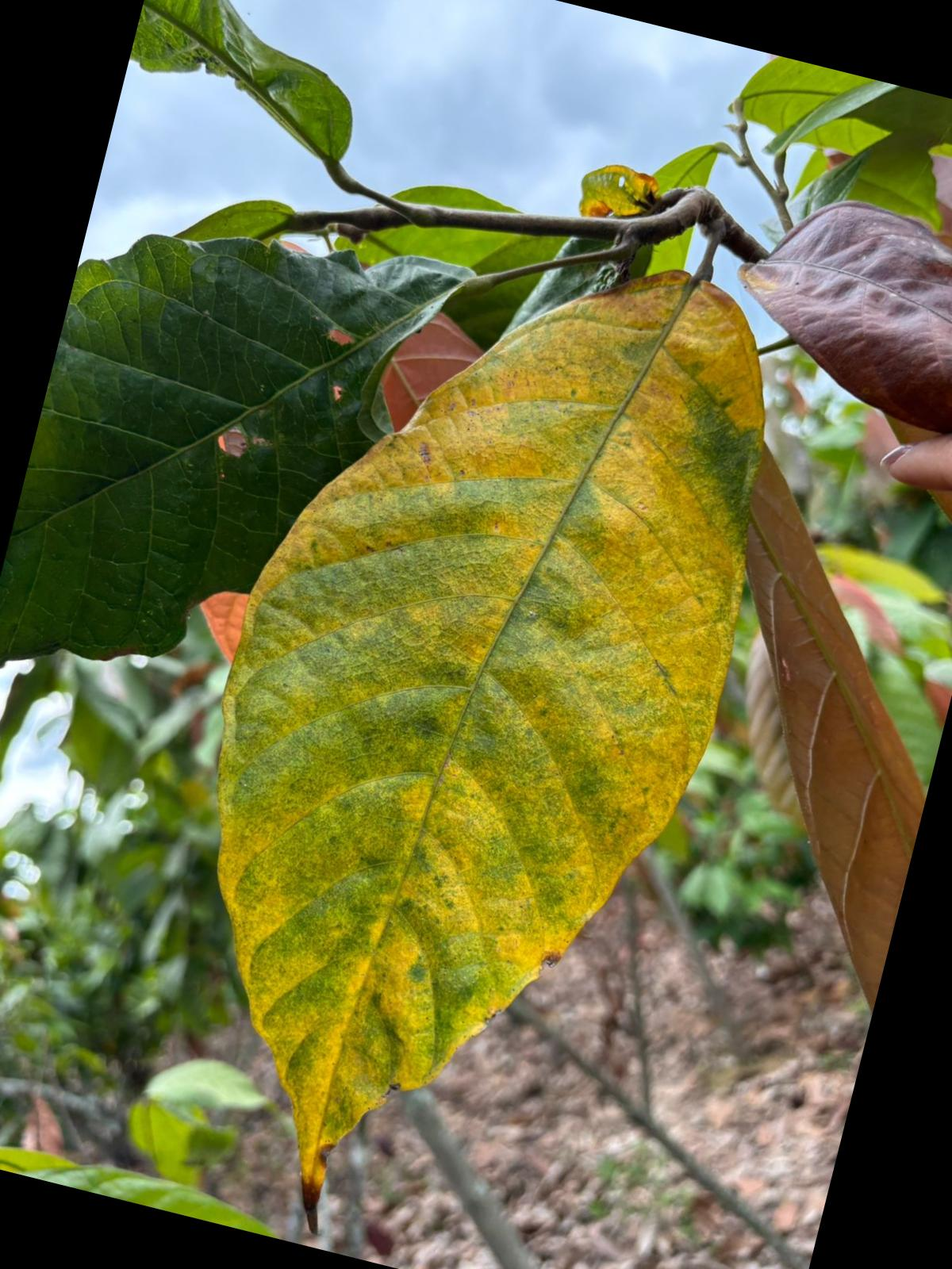Fosforo: (219, 273, 763, 1223)
